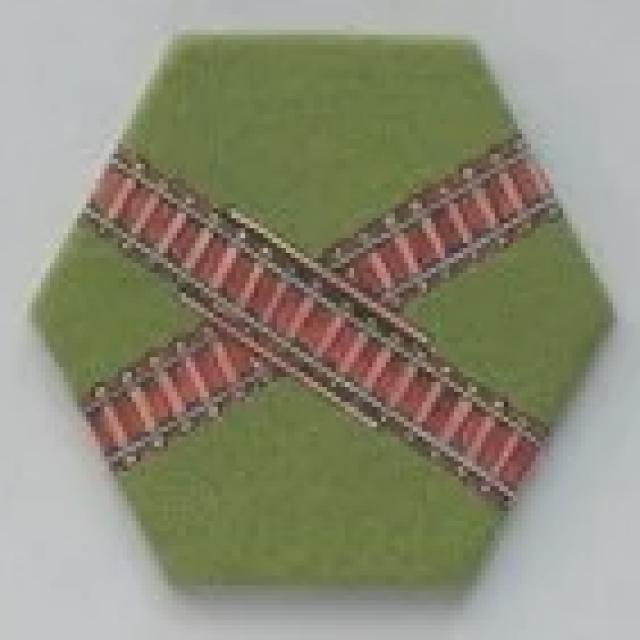9_0: (25, 30, 617, 607)
